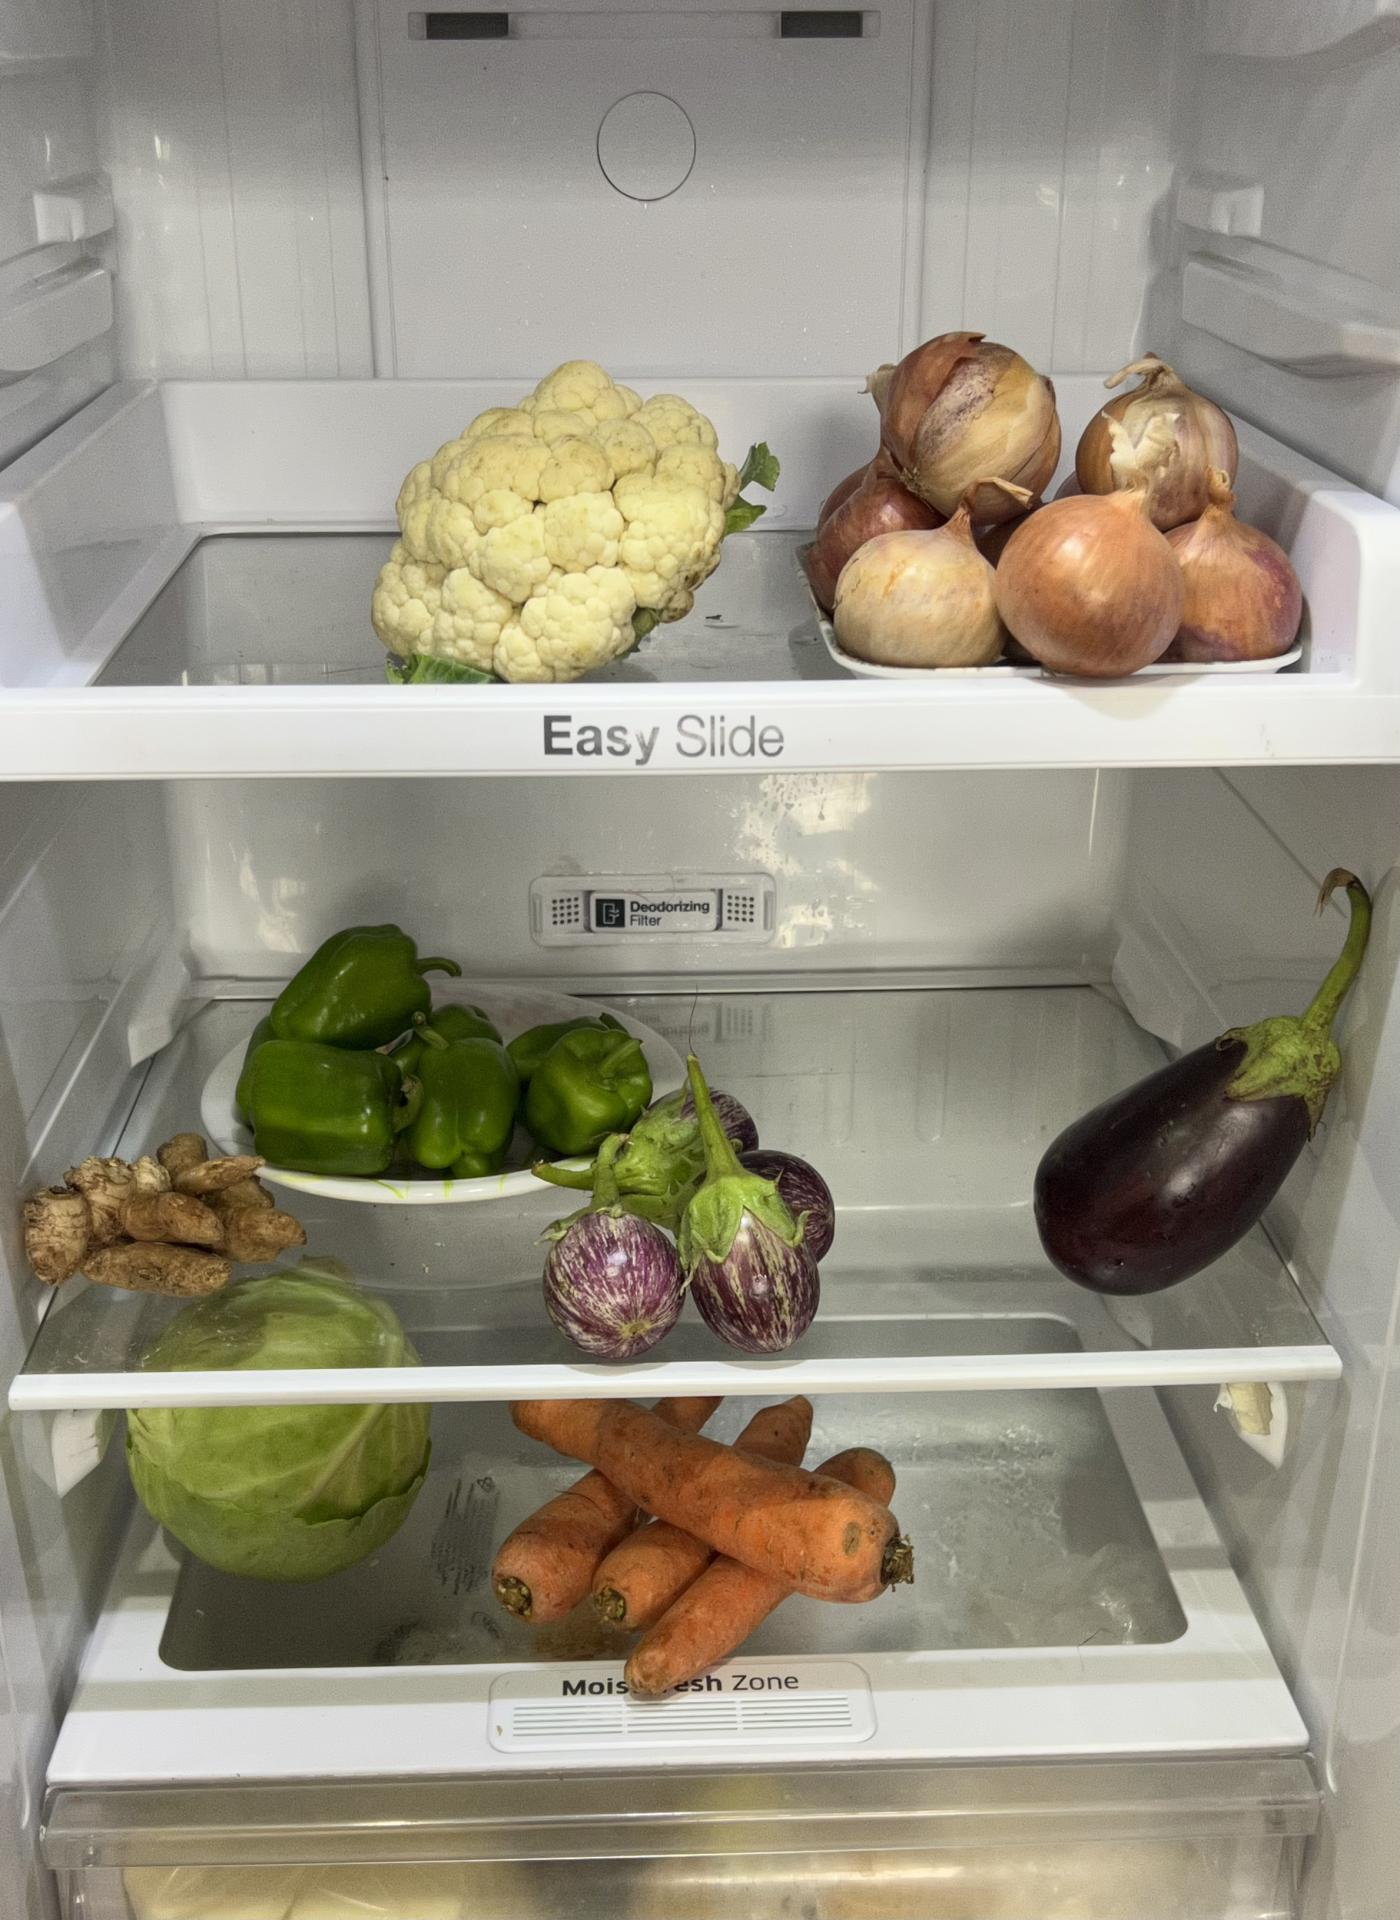cabbage: (137, 1388, 443, 1585)
capsicum: (236, 923, 646, 1185)
carrots: (471, 1395, 969, 1702)
cauliflower: (373, 356, 748, 677)
ginger: (12, 1127, 298, 1312)
onion: (813, 334, 1306, 668)
